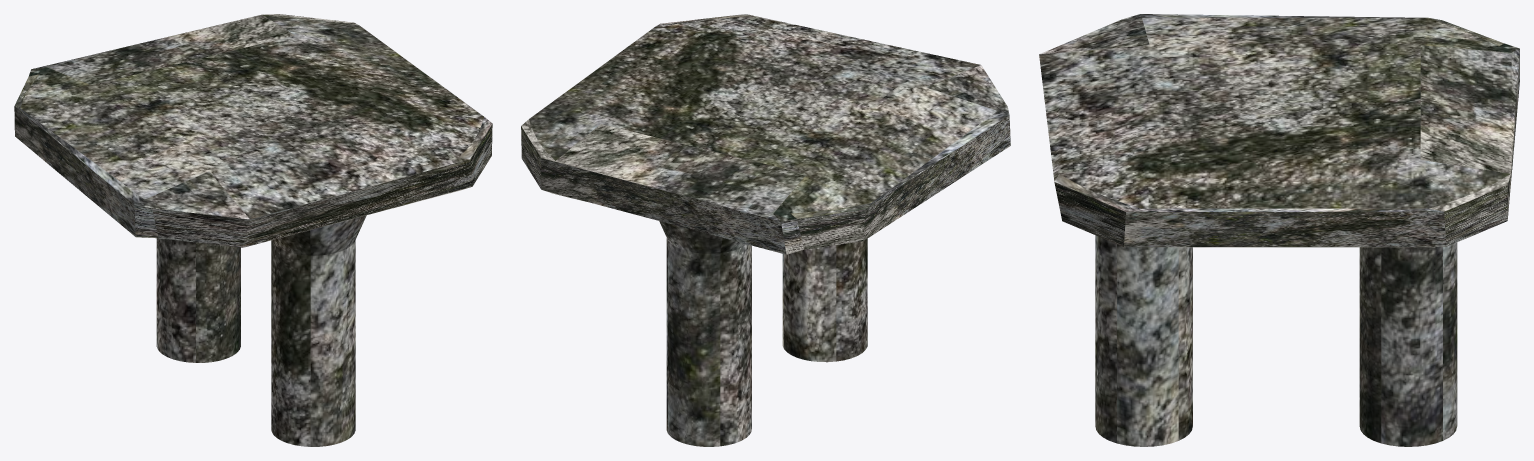
Rendered from belongs.fbx.
3 renders of one model, left to right at view 1: azimuth 30°, elevation 25°; view 2: azimuth 150°, elevation 25°; view 3: azimuth 270°, elevation 25°, orthographic. The views are drawn at different scales.
Visible parts, largest first — view 1: Cube.001, Cylinder.002; view 2: Cube.001, Cylinder.002; view 3: Cube.001, Cylinder.002.
Boxes of the visible parts, box(x1,y1,x2,y2) form: Cube.001: box(14, 14, 492, 247); Cylinder.002: box(156, 215, 366, 446); Cube.001: box(521, 14, 1010, 254); Cylinder.002: box(659, 221, 867, 446); Cube.001: box(1039, 14, 1519, 247); Cylinder.002: box(1095, 235, 1457, 446).
Size of the model in its own units: 1686 by 1286 by 1731.
